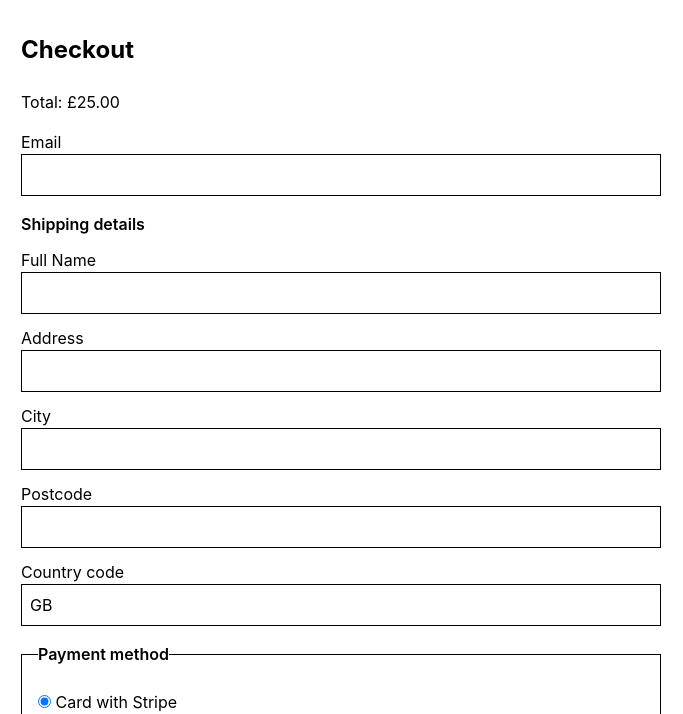
Scenario: checkout addresses and payment methods › keeps a created order visible if its payment URL is invalid, without offering a duplicate submission
Type "guest@example.com" into the field labelled "Email".
click(341, 175); type("guest@example.com")  # box [21, 154, 661, 196]
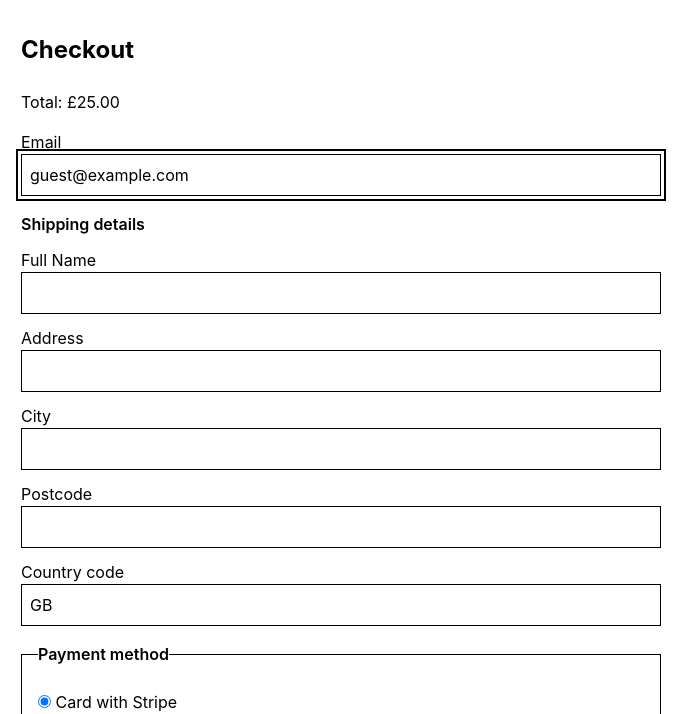
Type "Customer" into the field labelled "Full Name".
click(341, 293); type("Customer")  # box [21, 272, 661, 314]
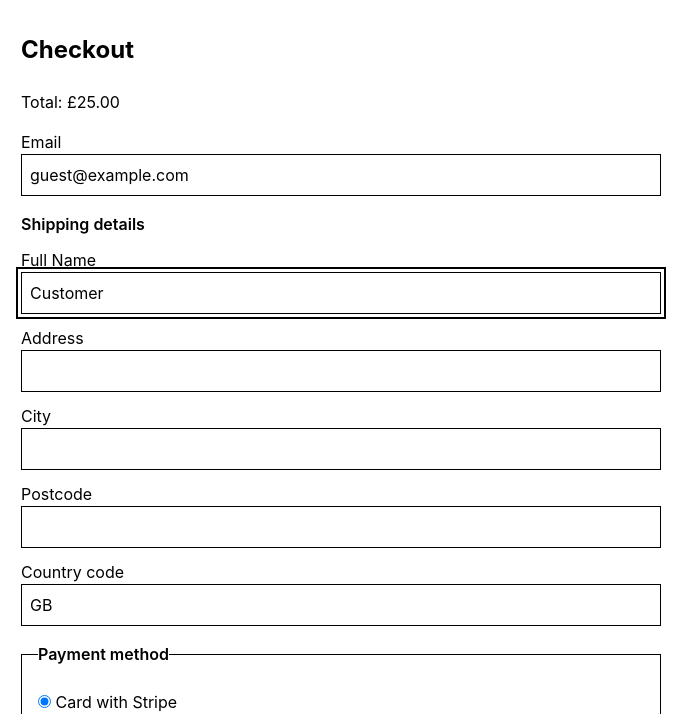
Type "Street" into the field labelled "Address".
click(341, 371); type("Street")  # box [21, 350, 661, 392]
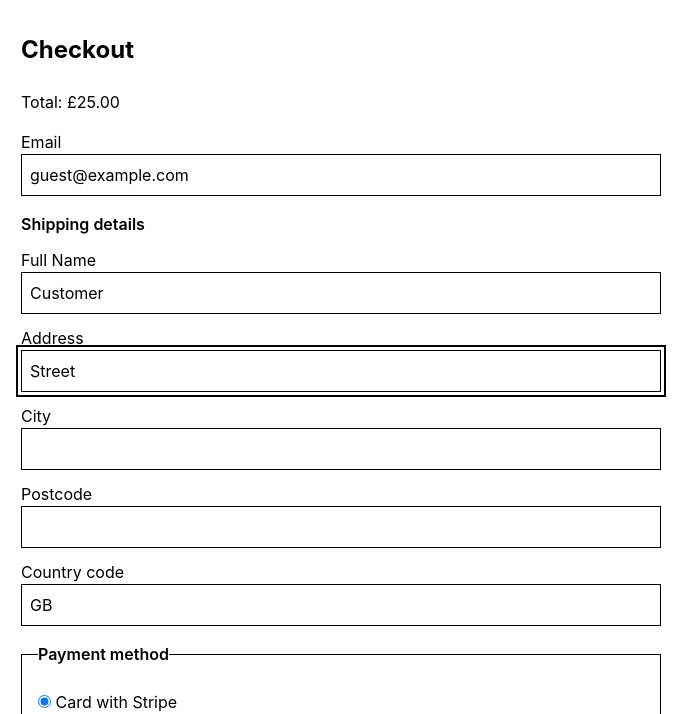
Type "City" into the field labelled "City".
click(341, 449); type("City")  # box [21, 428, 661, 470]
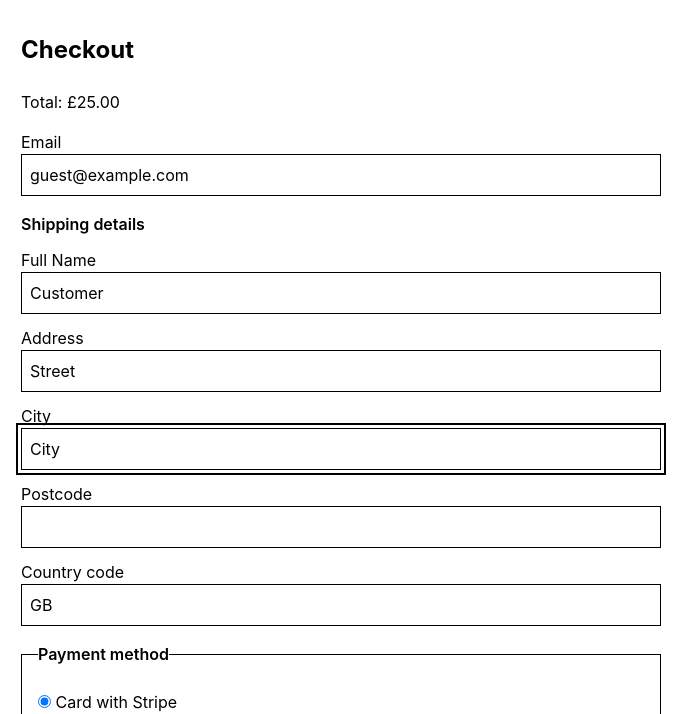
Type "ABC" into the field labelled "Postcode".
click(341, 527); type("ABC")  # box [21, 506, 661, 548]
(page scrolled)
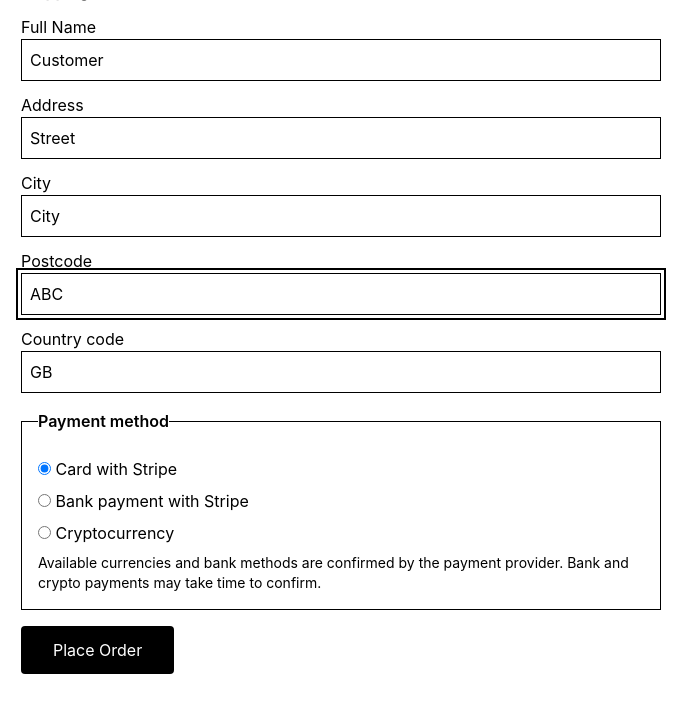
Click the button "Place Order".
click(98, 650)  # box [21, 626, 174, 674]
(page scrolled)
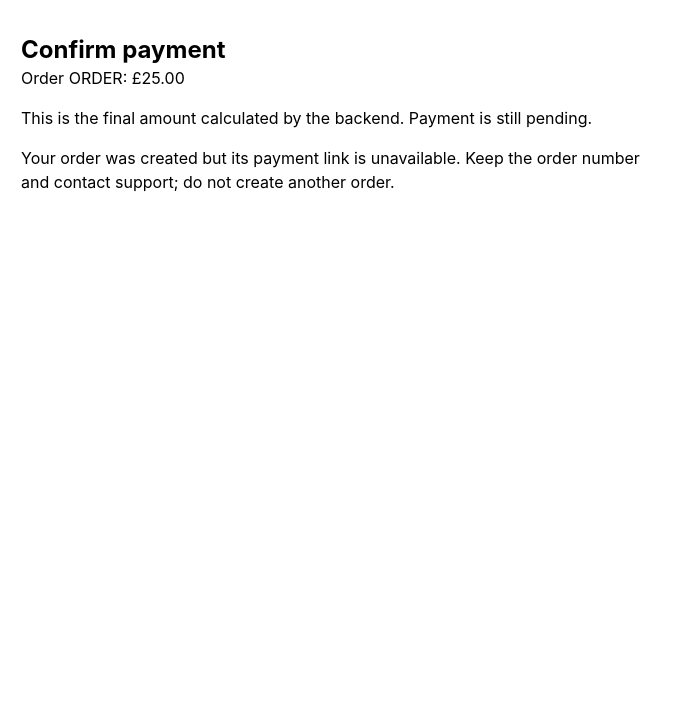
Result: the message shows "Your order was created" at [21, 148, 640, 192]
Result: the button "Place Order" is gone
